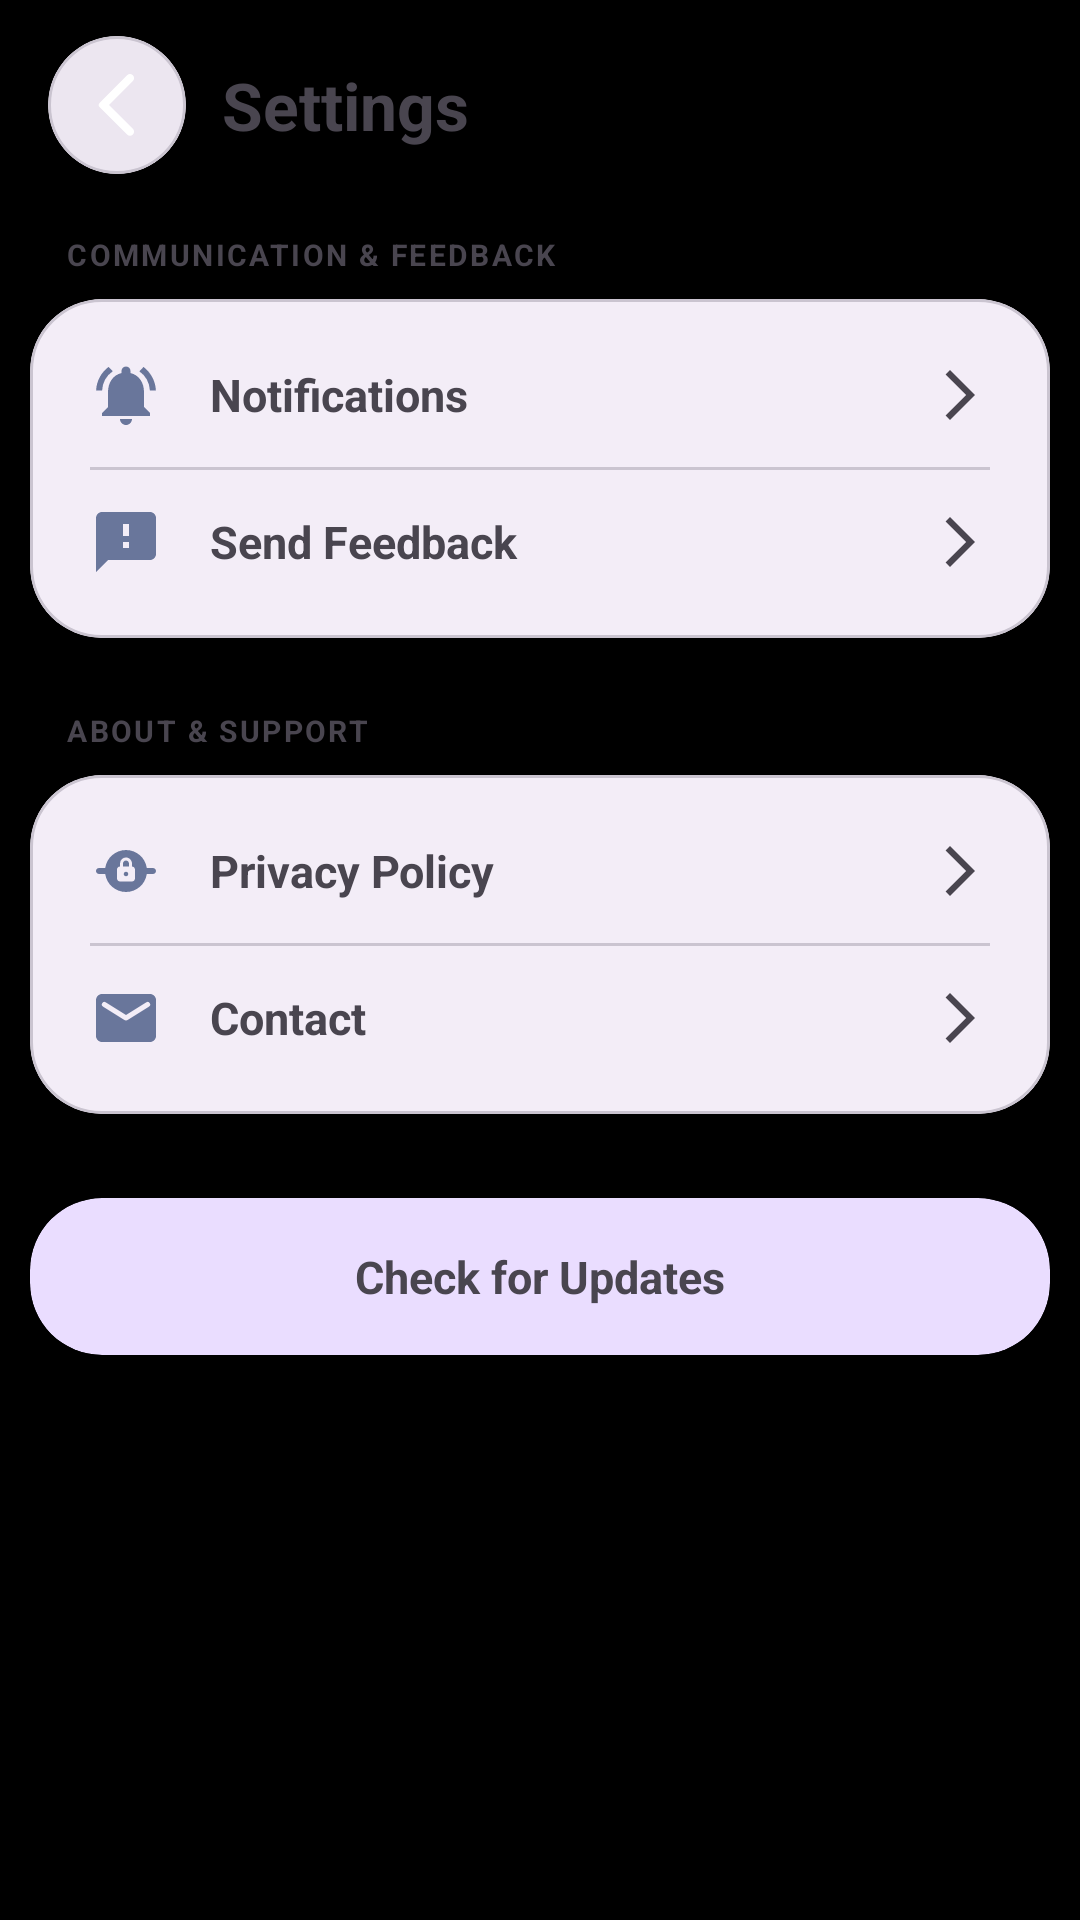

Locate icon controls on the screen. Image size 1080w x 1920h, boxes as [x1, y1, x2, y2].
arrow: [48, 36, 186, 174], [945, 370, 975, 420], [945, 517, 975, 567], [945, 846, 975, 896], [945, 993, 975, 1043]
email: [96, 994, 156, 1042]
private: [96, 850, 156, 892]
